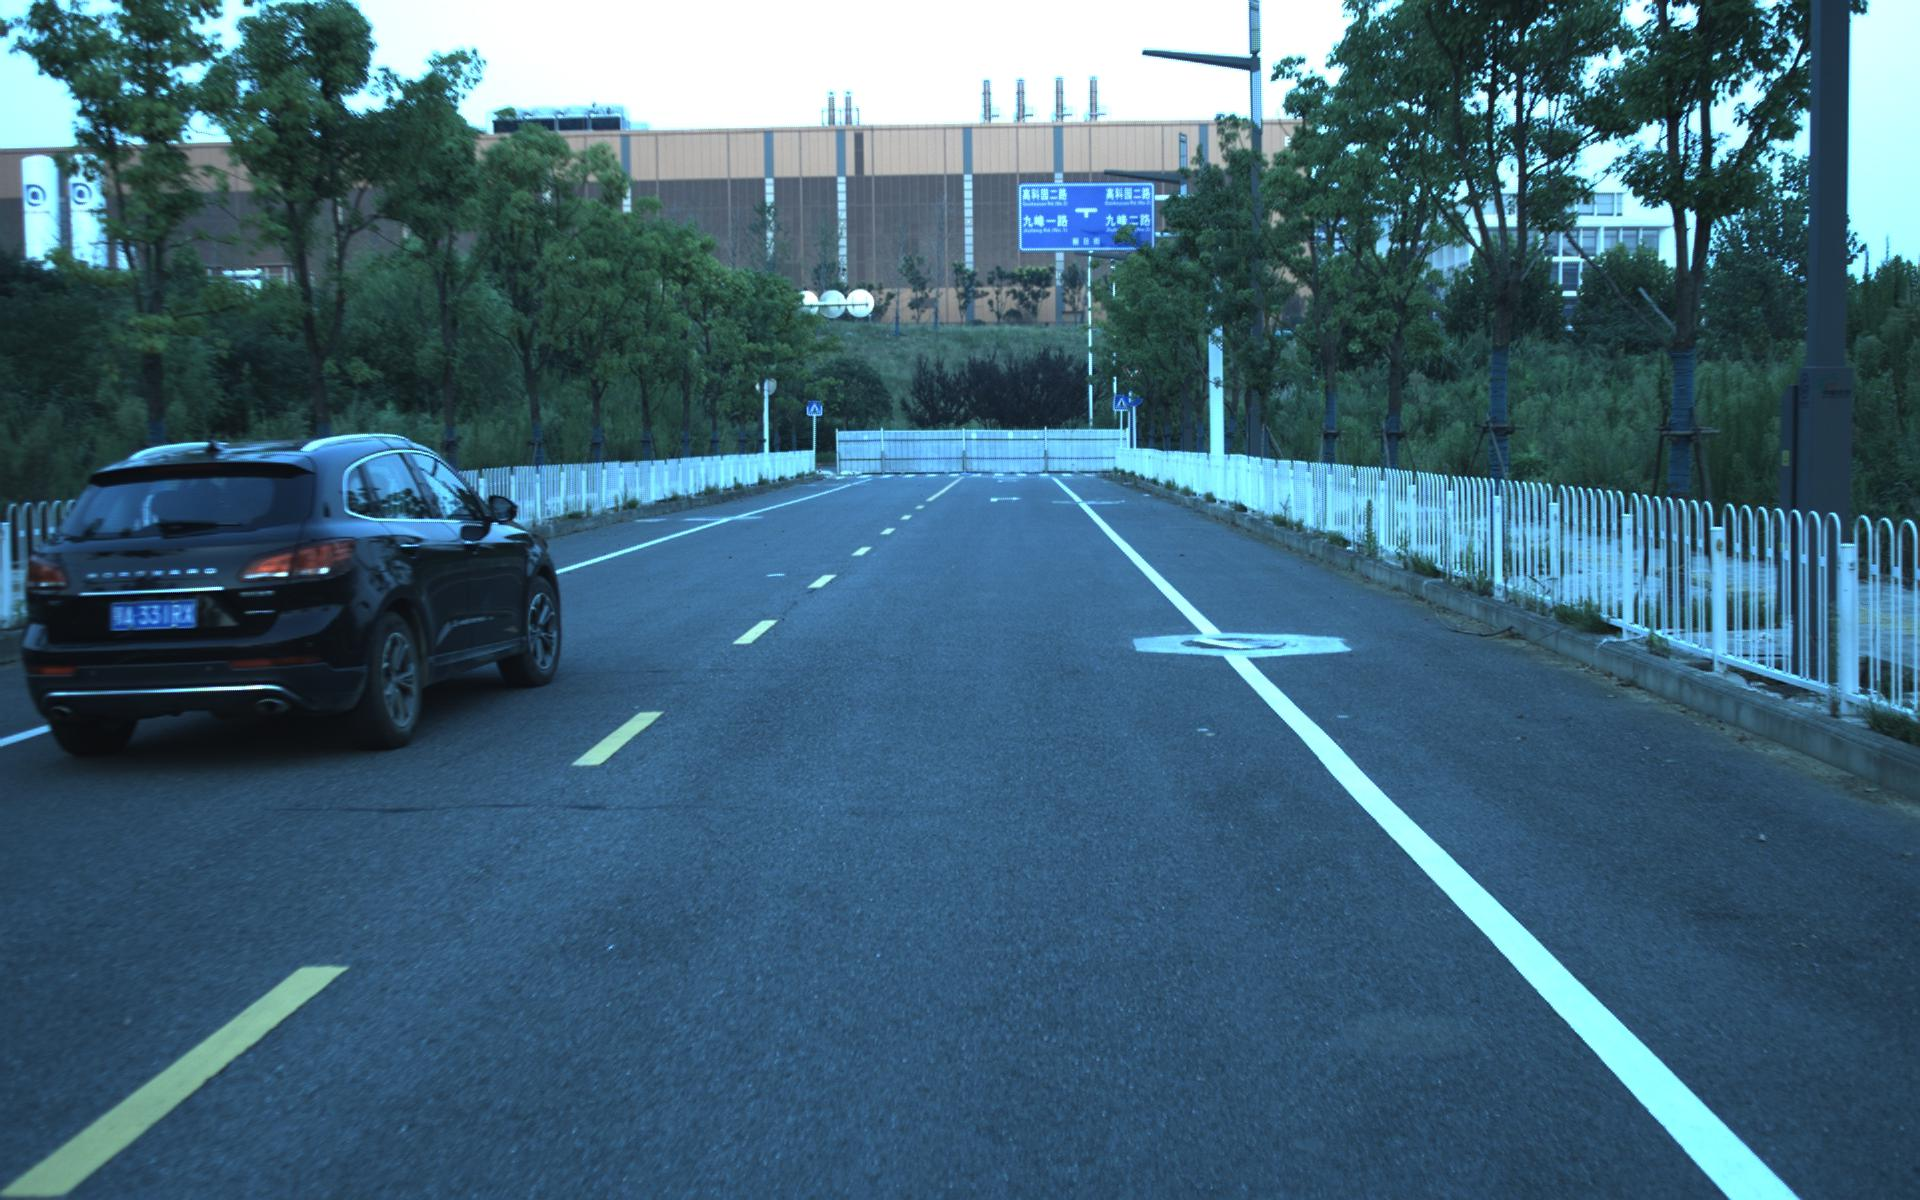Car: (0, 413, 571, 763)
